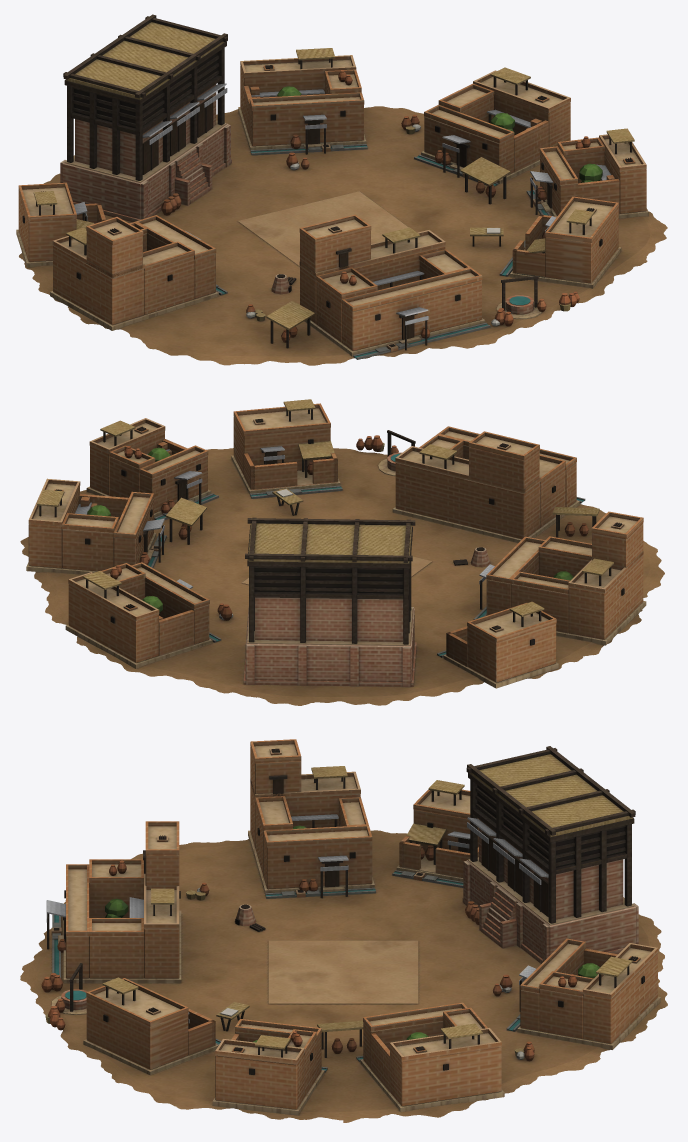
Rendered from bronze-town-small-b-indic.glb.
3 views of the same model, one above another, from view 1: azimuth 30°, elevation 25°; view 2: azimuth 150°, elevation 25°; view 3: azimuth 270°, elevation 25° (orthographic). The views are drawn at different scales.
Visible parts, largest first — view 1: LOD0; view 2: LOD0; view 3: LOD0.
Boxes of the visible parts, left/top/right/bottom form: LOD0: left=16, top=14, right=667, bottom=365; LOD0: left=20, top=399, right=664, bottom=705; LOD0: left=20, top=739, right=667, bottom=1122.
Size of what is drawn, in the model's own units: 3.98 by 0.878 by 3.71.
Materials: 3 (3 with a texture image).
